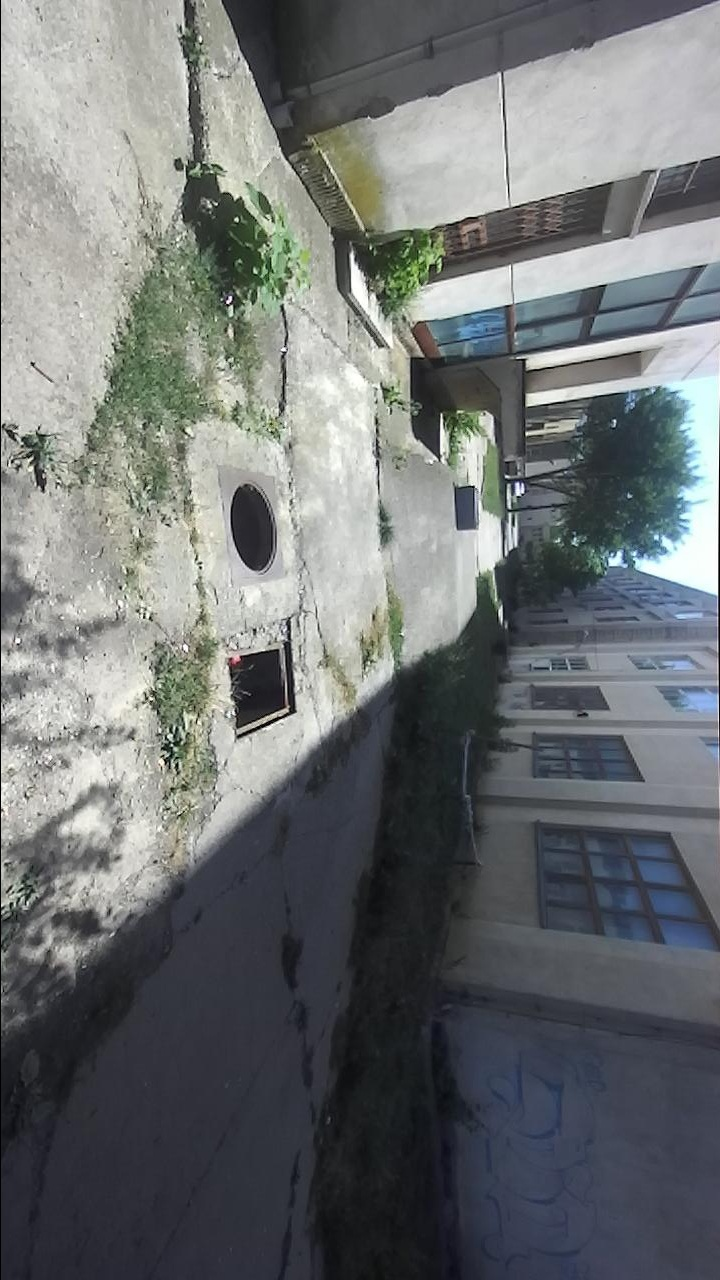drain: (230, 637, 300, 746), (229, 475, 279, 583)
